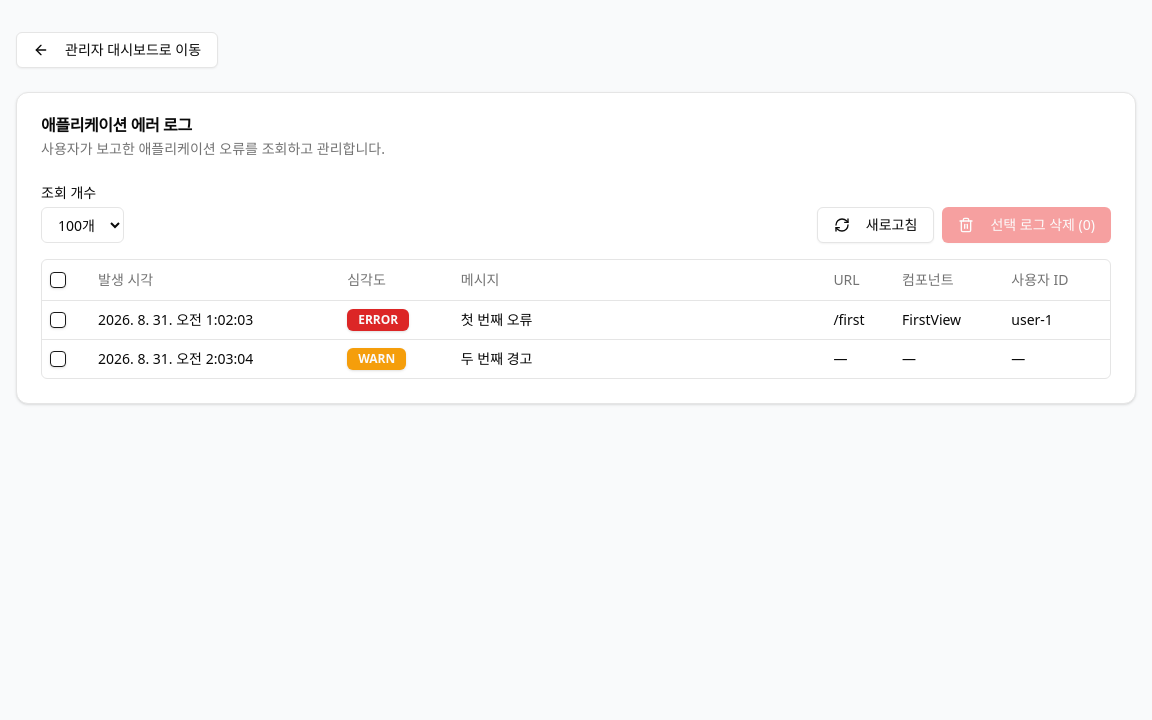
Test: AppLogsHome › selects the current result set and deletes all selected ids after confirmation
Expected: the button "첫 번째 오류" is shown, [461,310,817,330]
Click the checkbox named "모든 로그 선택". click: (58, 280)
box: [50,272,66,288]
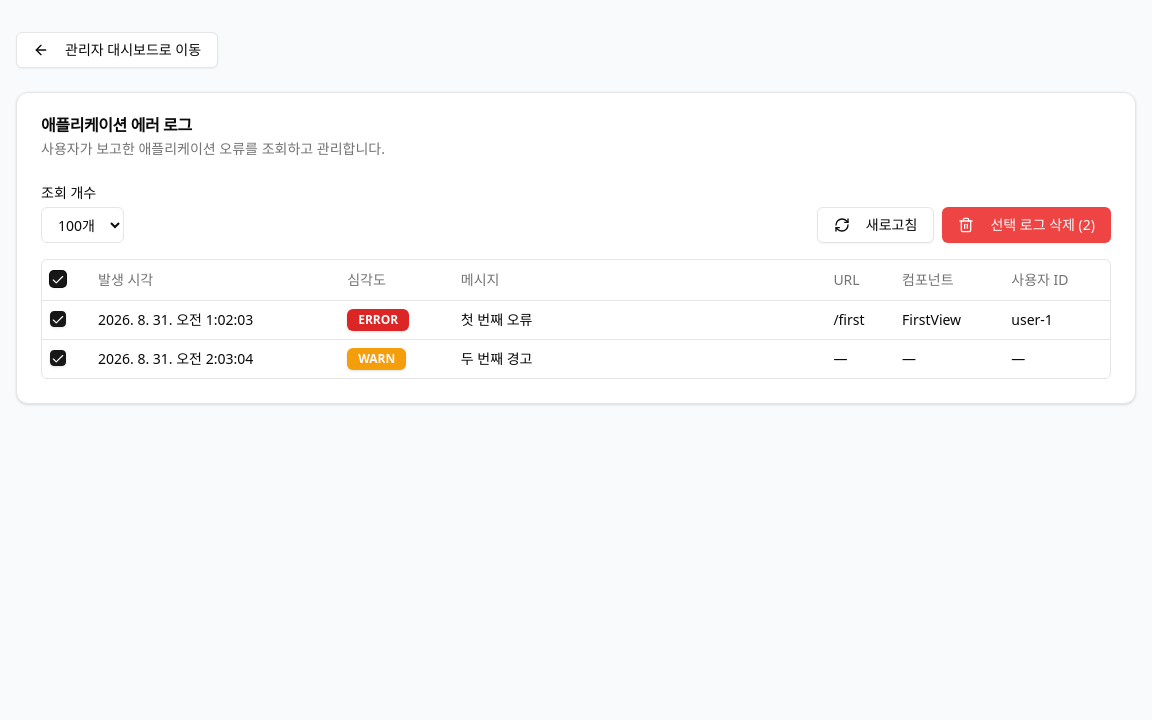
Click the button "선택 로그 삭제 (2)". click: (1027, 225)
box: [942,207,1111,243]
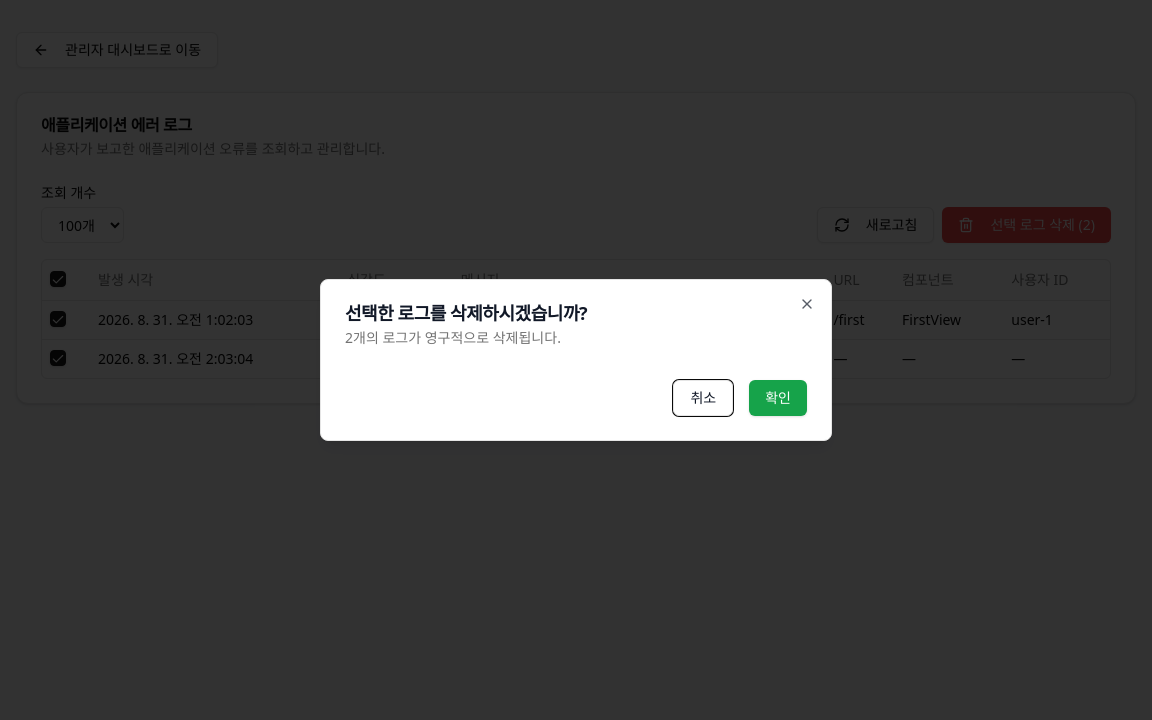
Click the button "확인". click: (778, 398)
box: [749,380,807,416]
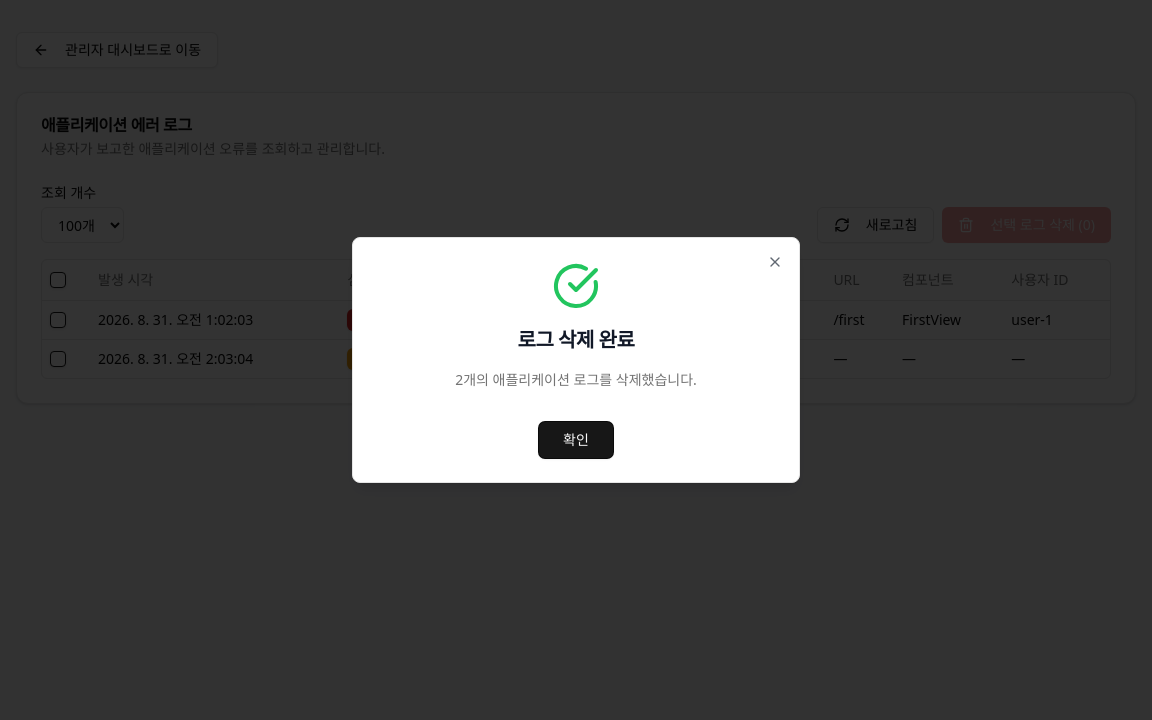
Now the text "2개의 애플리케이션 로그를 삭제했습니다." is shown, box [455,370,697,390]
